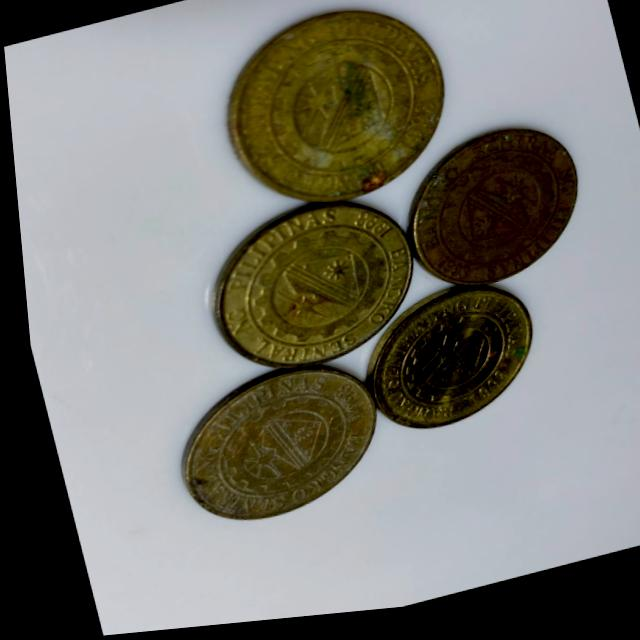25Cent_Old_Back: (219, 0, 470, 224), (200, 196, 439, 393), (388, 127, 602, 309), (166, 366, 384, 534), (355, 291, 537, 445)
